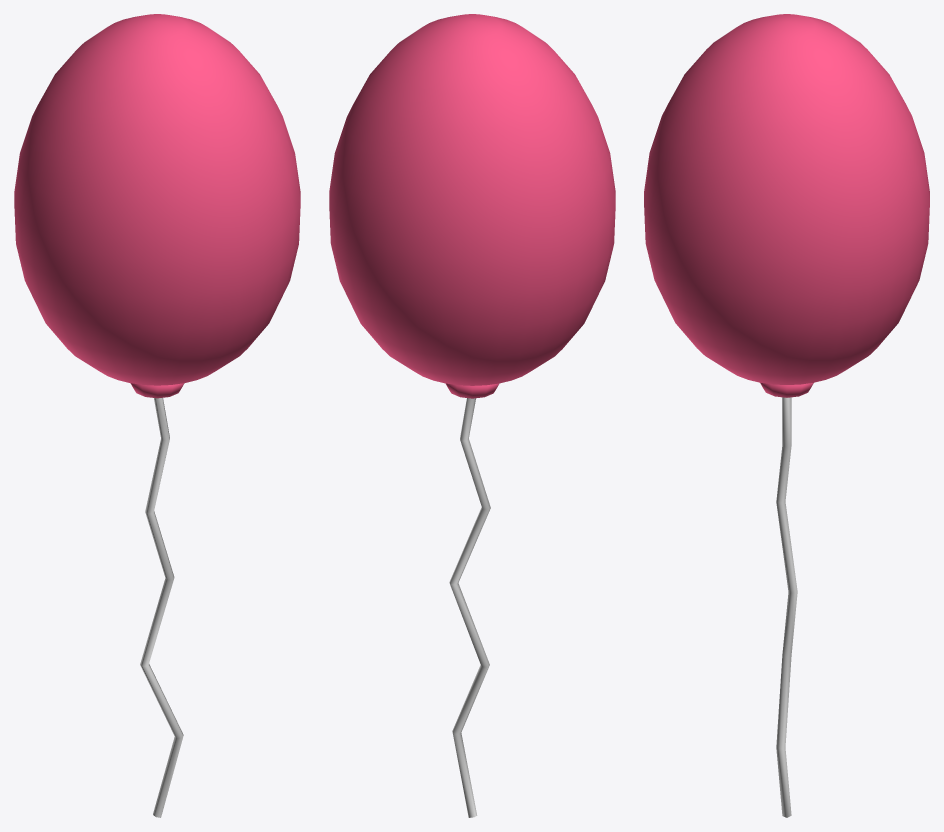
File: Balloon.obj
The picture shows the model from 3 angles, left to right: view 1: azimuth 30°, elevation 25°; view 2: azimuth 150°, elevation 25°; view 3: azimuth 270°, elevation 25°; orthographic projection.
Visible parts, largest first — view 1: Balloon, String; view 2: Balloon, String; view 3: Balloon, String.
Boxes of the visible parts, bbox=[...] form: Balloon: bbox=[14, 14, 300, 398]; String: bbox=[140, 397, 183, 817]; Balloon: bbox=[329, 14, 615, 398]; String: bbox=[449, 398, 490, 817]; Balloon: bbox=[644, 14, 929, 397]; String: bbox=[776, 397, 797, 817].
Size of the model in its own units: 2.37 by 7.21 by 2.35.
